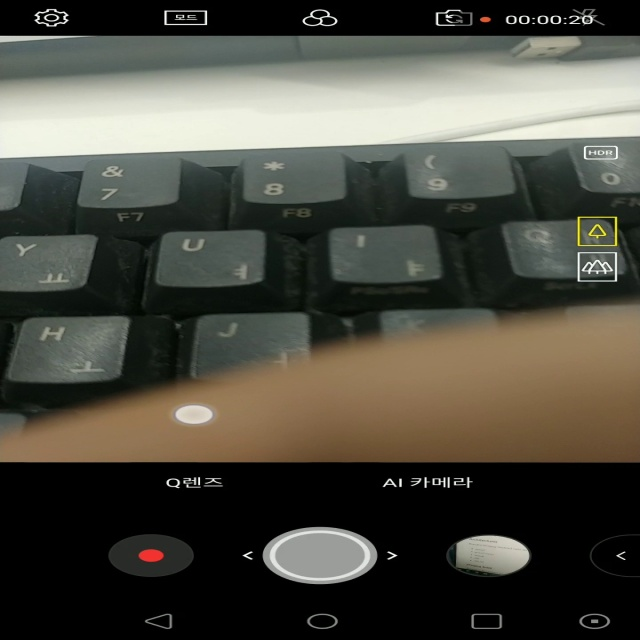Cursor: (171, 404, 216, 426)
